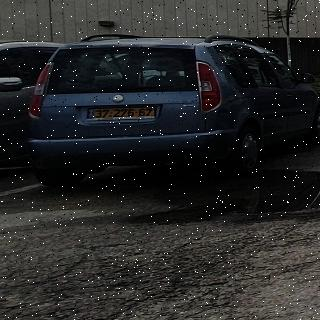LicensePlate: (95, 108, 154, 117)
